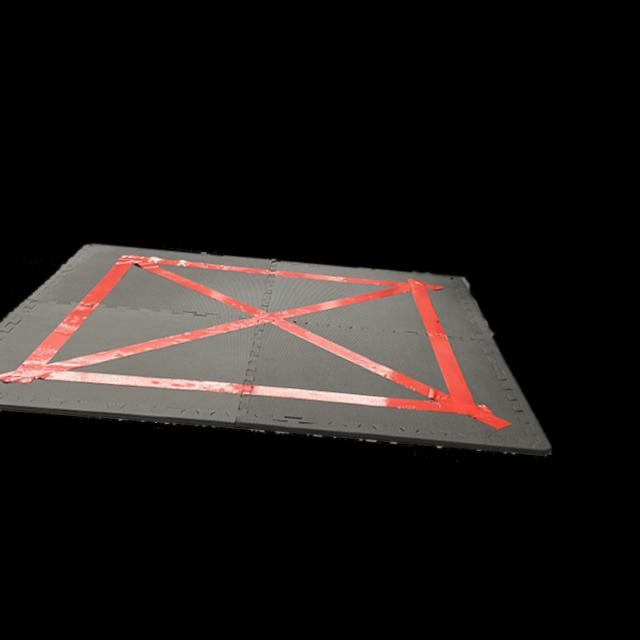landingPads: (0, 223, 593, 446)
